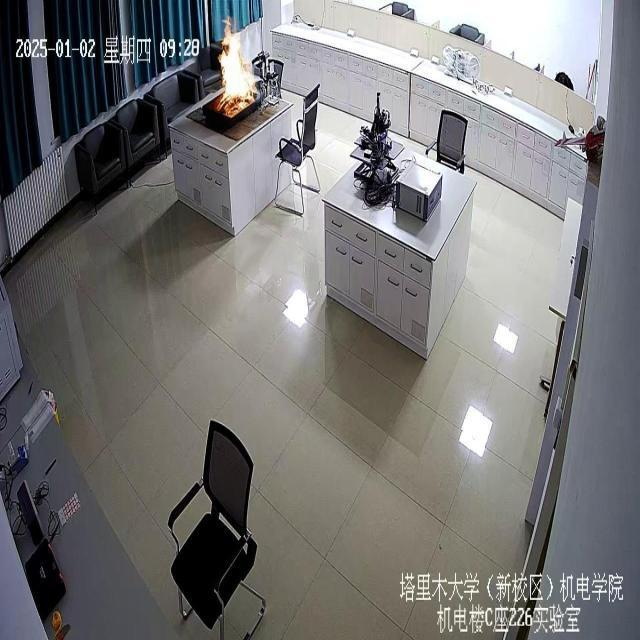smoke: (217, 18, 257, 114)
